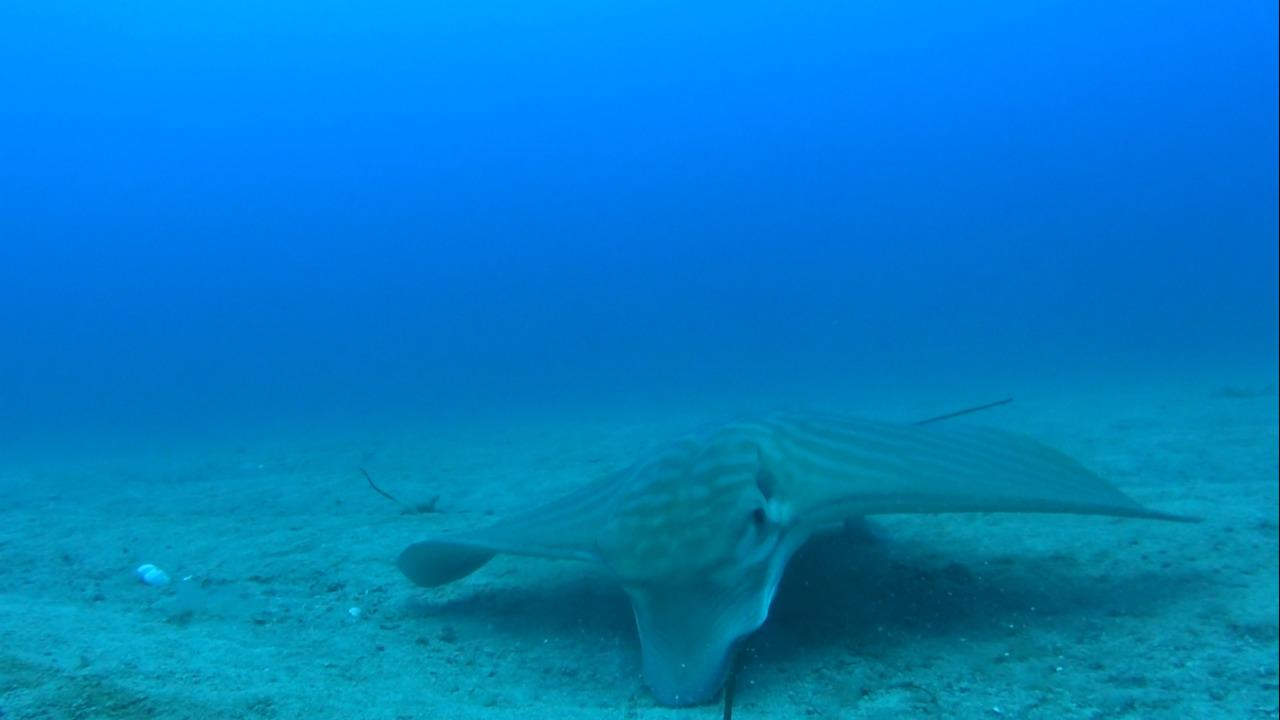myliobatis: (389, 390, 1213, 711)
